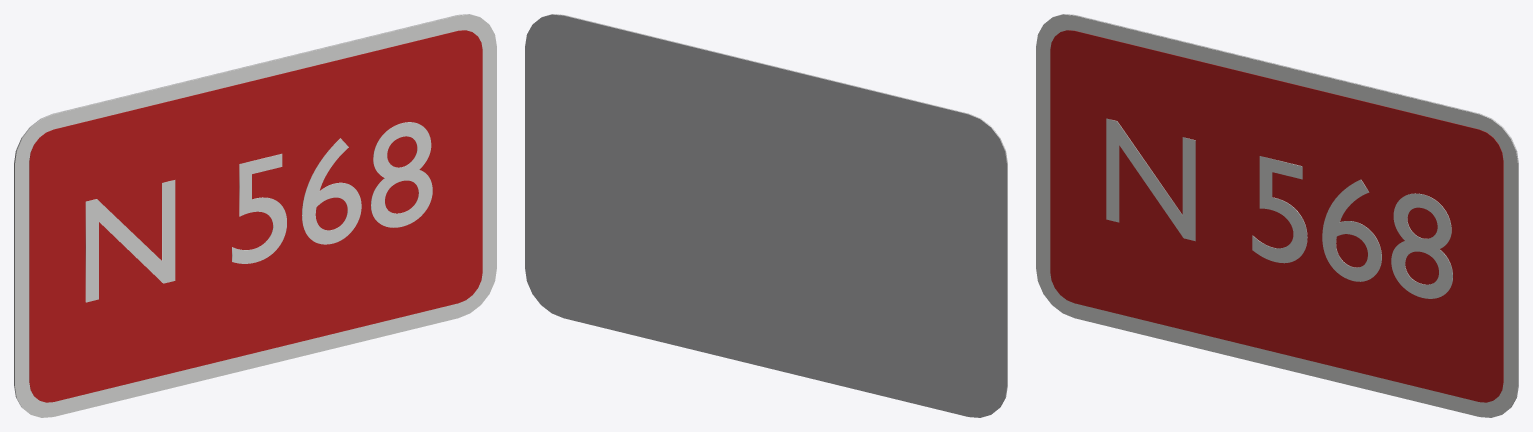
3 views of the same model, side by side, from view 1: azimuth 30°, elevation 25°; view 2: azimuth 150°, elevation 25°; view 3: azimuth 330°, elevation 25° (orthographic).
Parts seen in each view (by area): view 1: E42_fond01, E42_cadre00, E42_txt02, E42_dos; view 2: E42_dos, E42_cadre00; view 3: E42_fond01, E42_cadre00, E42_txt02, E42_dos.
Boxes of the visible parts, x1,y1,x2,y2 form: E42_fond01: (29,30,482,402); E42_cadre00: (14,14,496,417); E42_txt02: (85,122,432,302); E42_dos: (14,14,480,407); E42_dos: (525,14,1007,417); E42_cadre00: (545,14,1007,403); E42_fond01: (1050,30,1503,402); E42_cadre00: (1036,14,1518,417); E42_txt02: (1106,118,1452,298); E42_dos: (1052,14,1518,407).
Size of the model in its own units: 0.5 by 0.3 by 0.0025.
